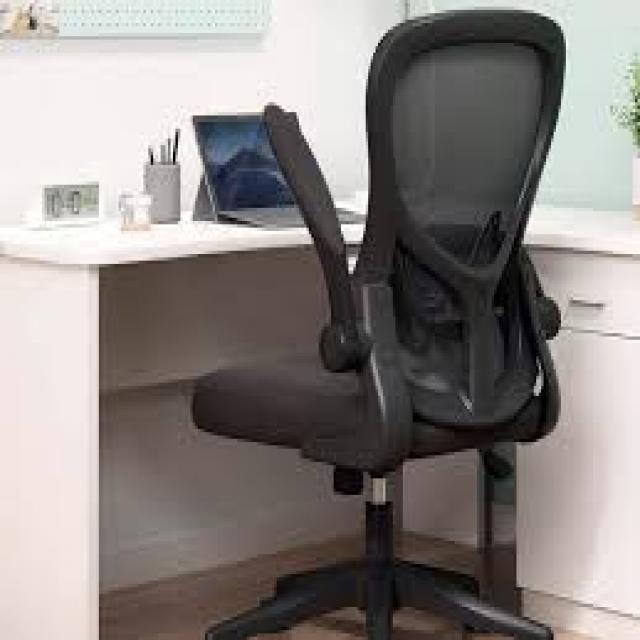chair: (165, 7, 596, 640)
